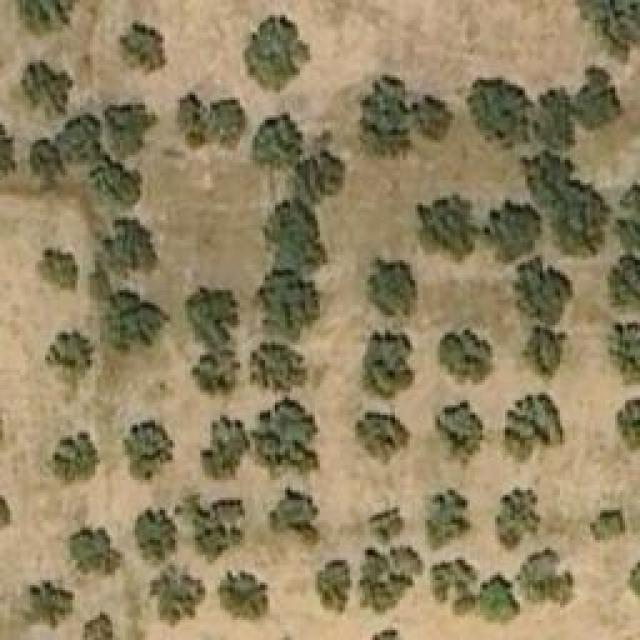Tree: (30, 117, 140, 205), (355, 75, 453, 163), (430, 557, 520, 625), (252, 398, 317, 481), (242, 15, 310, 93), (262, 200, 330, 278), (253, 268, 323, 341), (468, 70, 531, 150), (98, 290, 173, 355), (358, 545, 423, 615), (427, 395, 485, 470), (503, 392, 566, 460), (513, 255, 573, 325), (178, 92, 248, 150), (417, 192, 475, 260), (360, 330, 415, 400), (485, 200, 543, 265), (515, 545, 573, 608), (95, 220, 158, 278), (287, 153, 345, 216), (570, 65, 623, 133), (187, 495, 245, 555), (350, 412, 410, 470), (425, 488, 478, 551), (45, 430, 100, 488), (185, 348, 245, 401), (123, 423, 173, 486), (577, 0, 640, 50), (495, 485, 540, 553), (438, 328, 493, 383), (182, 285, 238, 339), (200, 415, 247, 479), (150, 573, 205, 626), (248, 342, 308, 390), (367, 258, 415, 318), (252, 113, 300, 173), (105, 105, 158, 158), (118, 20, 168, 73), (270, 488, 318, 543), (23, 64, 73, 115), (70, 527, 123, 575), (218, 570, 271, 618), (523, 327, 566, 385), (15, 0, 80, 38), (135, 510, 178, 565), (25, 583, 73, 628), (612, 183, 640, 258), (607, 322, 640, 385), (605, 258, 640, 313), (367, 507, 405, 555), (318, 560, 351, 613), (50, 333, 93, 373), (43, 248, 78, 291), (617, 397, 640, 452), (590, 510, 625, 540), (83, 612, 113, 640)
